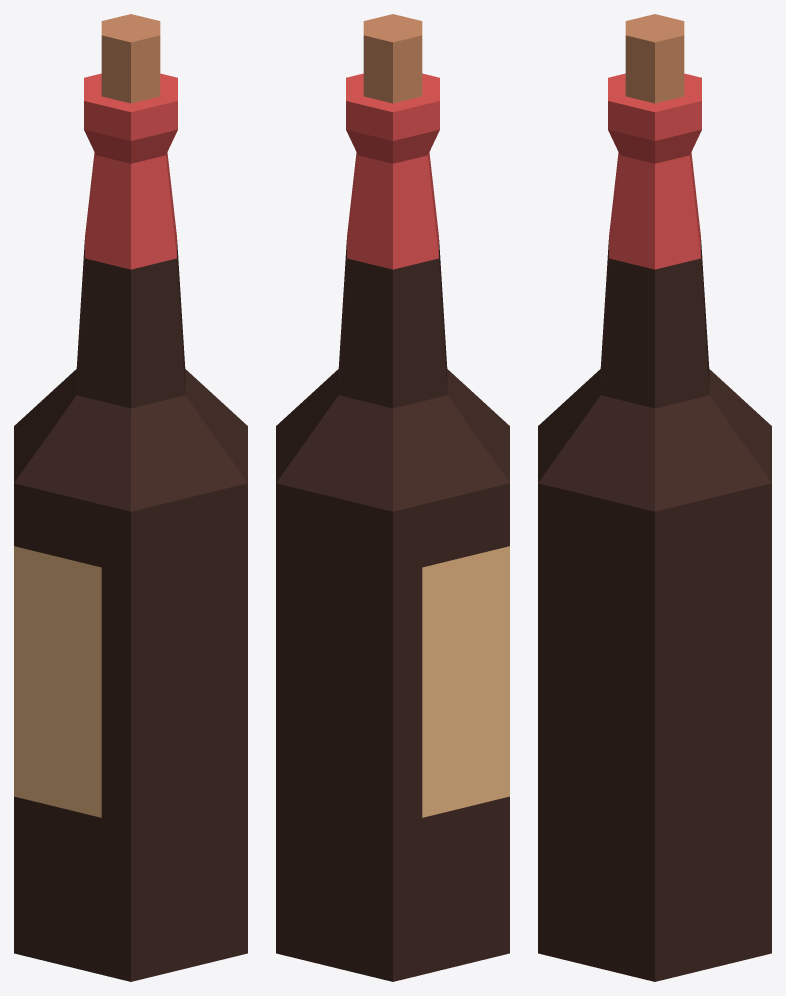
File: wineRed.obj
3 views of the same model, side by side, from view 1: azimuth 30°, elevation 25°; view 2: azimuth 150°, elevation 25°; view 3: azimuth 270°, elevation 25° (orthographic).
Visible parts, largest first — view 1: wineRed; view 2: wineRed; view 3: wineRed.
Boxes of the visible parts, x1,y1,x2,y2 form: wineRed: (14, 14, 247, 981); wineRed: (276, 14, 509, 981); wineRed: (538, 14, 771, 981).
Bounding box in the file's own units: 0.1908 × 0.6989 × 0.1652.
